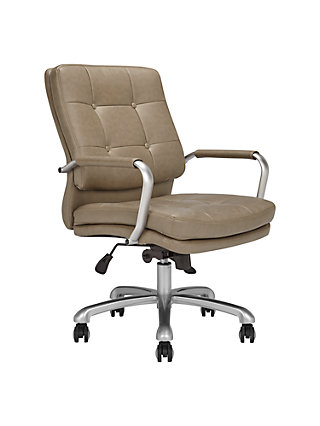chairs: (38, 62, 278, 363)
